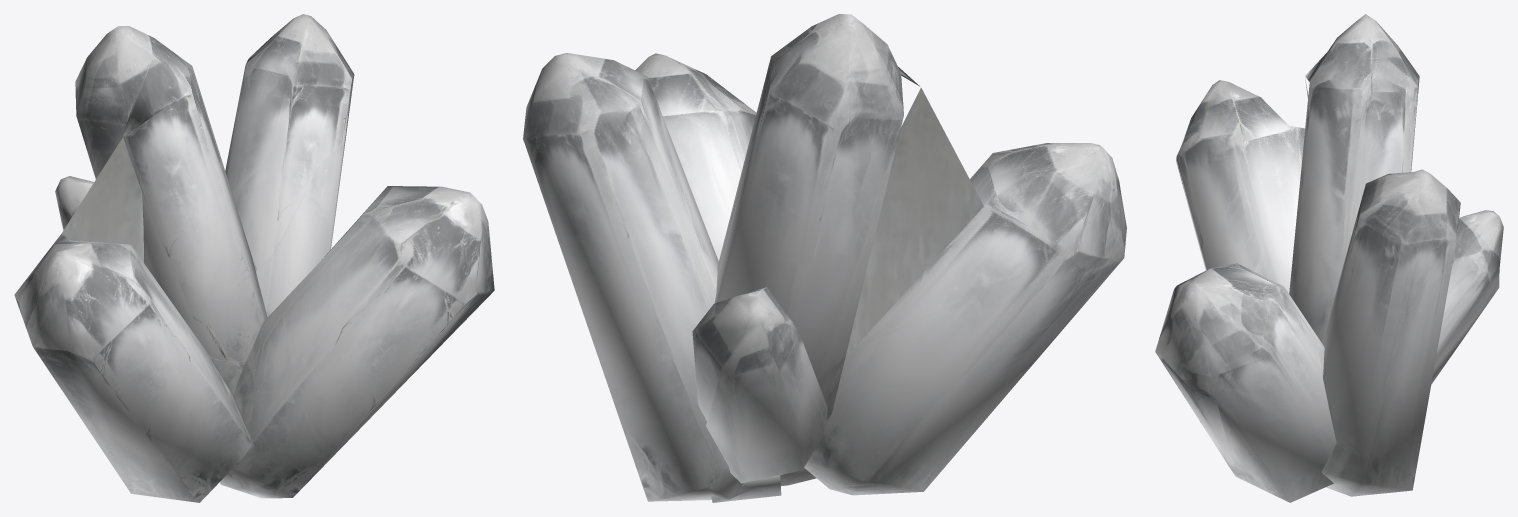
Rendered from crystal-shard-cluster-b.glb.
3 renders of one model, left to right at view 1: azimuth 30°, elevation 25°; view 2: azimuth 150°, elevation 25°; view 3: azimuth 270°, elevation 25°, orthographic. The views are drawn at different scales.
Size of the model in its own units: 1 by 0.9913 by 0.7262.
Materials: 1 (1 with a texture image).
